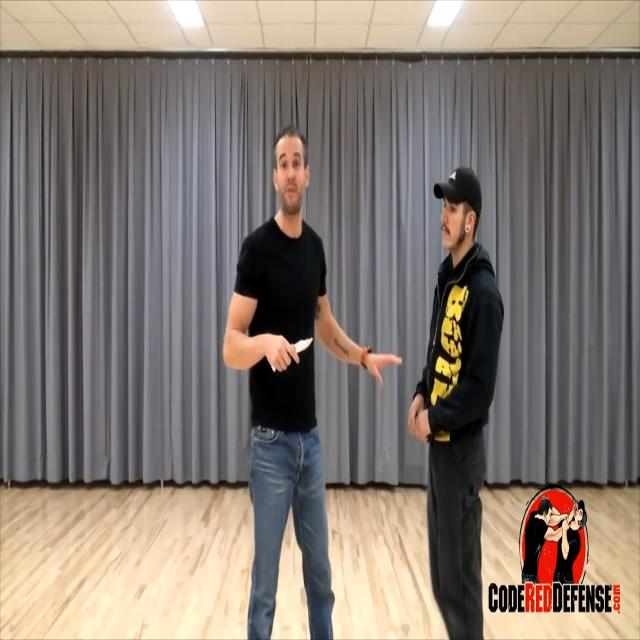knife: (291, 333, 317, 357)
